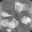people: (14, 1, 23, 13), (9, 19, 19, 28), (21, 16, 31, 24), (1, 19, 11, 27), (1, 11, 10, 18)
